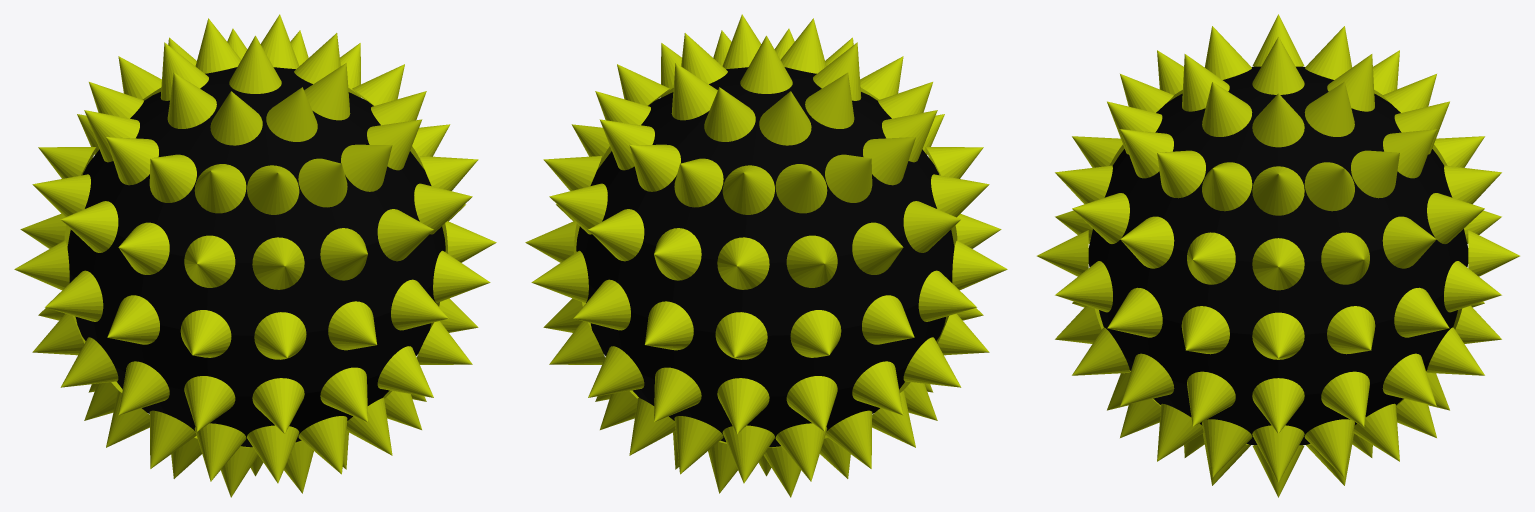
The model's file is SpikeBall.obj.
The picture shows the model from 3 angles, left to right: view 1: azimuth 30°, elevation 25°; view 2: azimuth 150°, elevation 25°; view 3: azimuth 270°, elevation 25°; orthographic projection.
Parts seen in each view (by area): view 1: Sphere_Sphere.001_Sphere_Sphere.001_Spike, Sphere_Sphere.001_Sphere_Sphere.001_Ball; view 2: Sphere_Sphere.001_Sphere_Sphere.001_Spike, Sphere_Sphere.001_Sphere_Sphere.001_Ball; view 3: Sphere_Sphere.001_Sphere_Sphere.001_Spike, Sphere_Sphere.001_Sphere_Sphere.001_Ball.
Boxes of the visible parts, x1,y1,x2,y2 form: Sphere_Sphere.001_Sphere_Sphere.001_Spike: (14, 14, 496, 497); Sphere_Sphere.001_Sphere_Sphere.001_Ball: (67, 67, 445, 447); Sphere_Sphere.001_Sphere_Sphere.001_Spike: (525, 14, 1007, 497); Sphere_Sphere.001_Sphere_Sphere.001_Ball: (576, 67, 954, 447); Sphere_Sphere.001_Sphere_Sphere.001_Spike: (1037, 14, 1519, 497); Sphere_Sphere.001_Sphere_Sphere.001_Ball: (1088, 66, 1468, 445).
Size of the model in its own units: 1.85 by 1.85 by 1.85.
